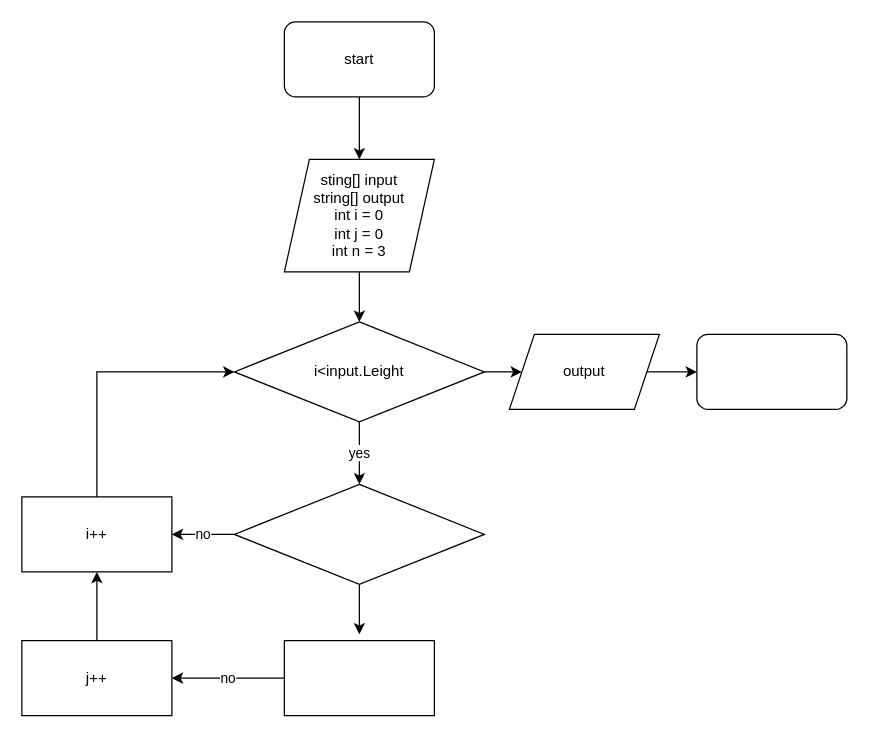
The diagram is 869 pixels wide and 738 high, and some of its shapes have lost their labels. The shapes that lost their labels are listed below. From the top down, each one's centre as x and y in pixels, then its label:
the point at 771,371: end
the point at 358,533: input[i].Leight<=n
the point at 358,677: output[j]=input[i]
